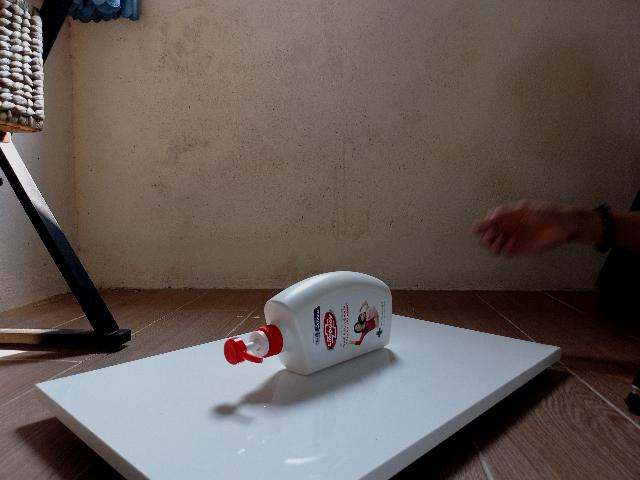life-buoy: (223, 271, 392, 376)
